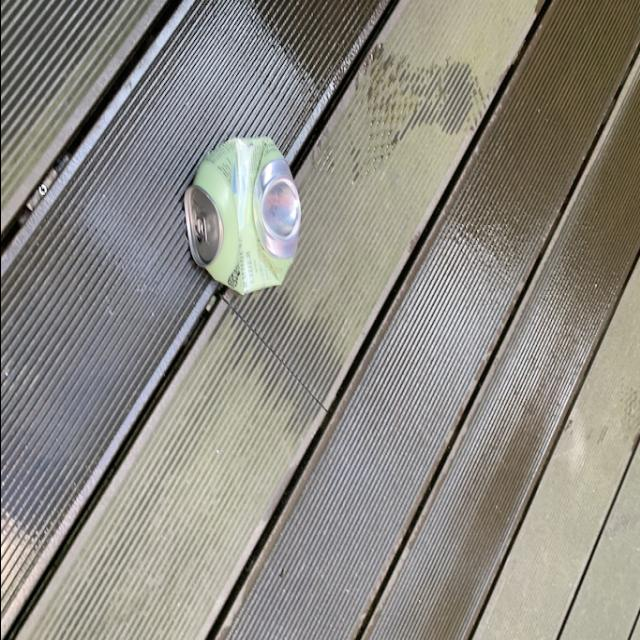litter: (178, 128, 301, 308)
